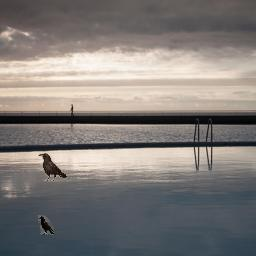Crow: (39, 153, 68, 181), (38, 215, 54, 235)
